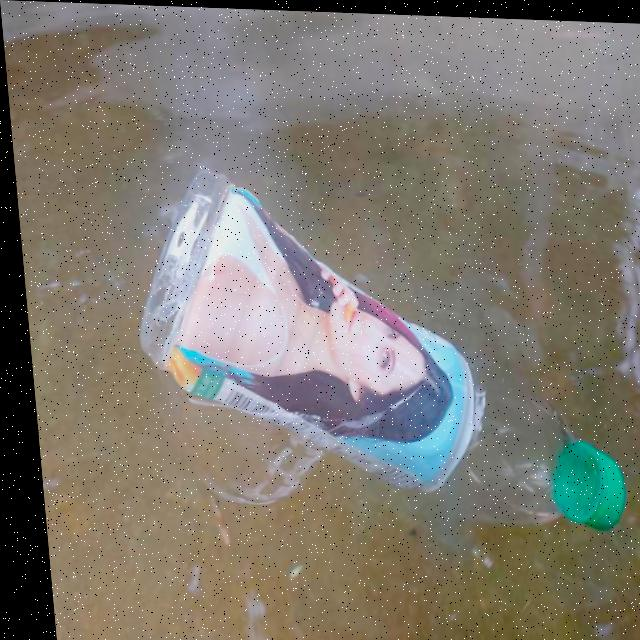waterbottle: (119, 160, 640, 598)
